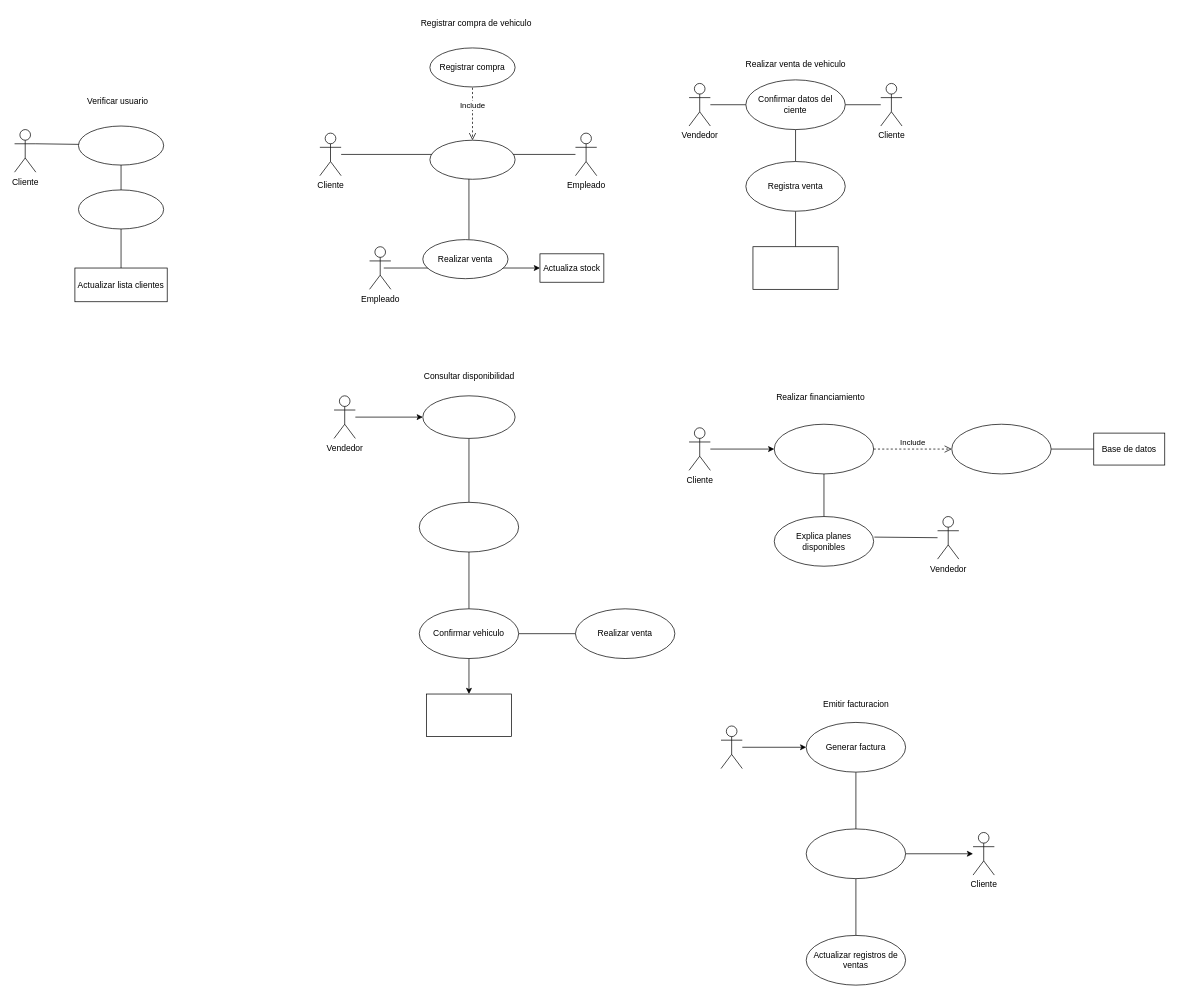
Image size: 1177x998. Some labels were removed from this diagram. Here are the shapes that lost their labels. From the top down, the centre of each, then its label:
At point 121,145: "Loguear cuente".
At point 472,159: "Consultar disponibilidad de vehiculo".
At point 121,209: "Confirmar datos".
At point 795,267: "Ventas totales".
At point 468,416: "Ingresar datos del vehiculo".
At point 824,449: "Solicitar informacion de planes".
At point 1001,449: "Selecciona plan".
At point 469,527: "Consultar stock".
At point 469,715: "Sistema de stock".
At point 731,747: "Sistema de facturacion".
At point 855,853: "Emitir factura".
